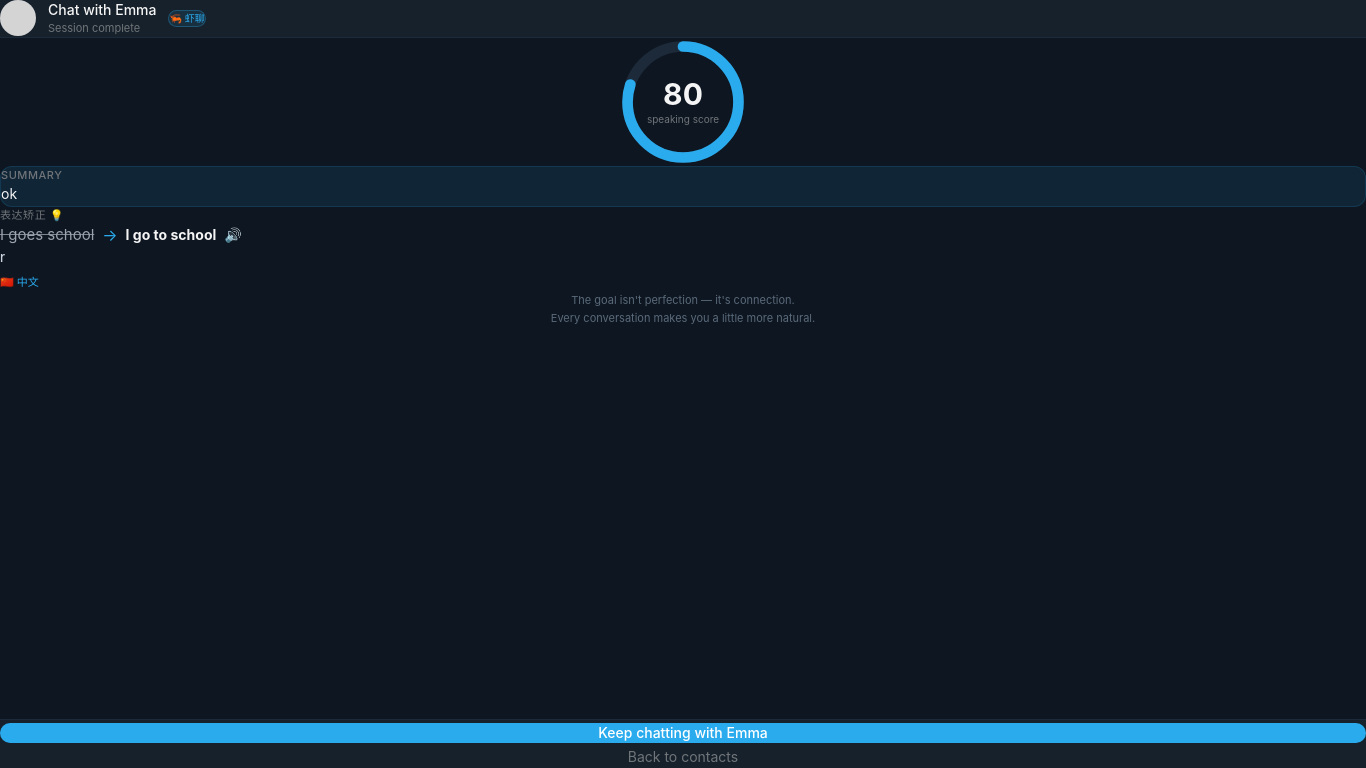
EndReview — 点词释义 (T05) › clicking a word with a definition opens the bubble showing 中文 (B02)
Click the button "school" at (193, 235), box x1=170 y1=225 x2=216 y2=245
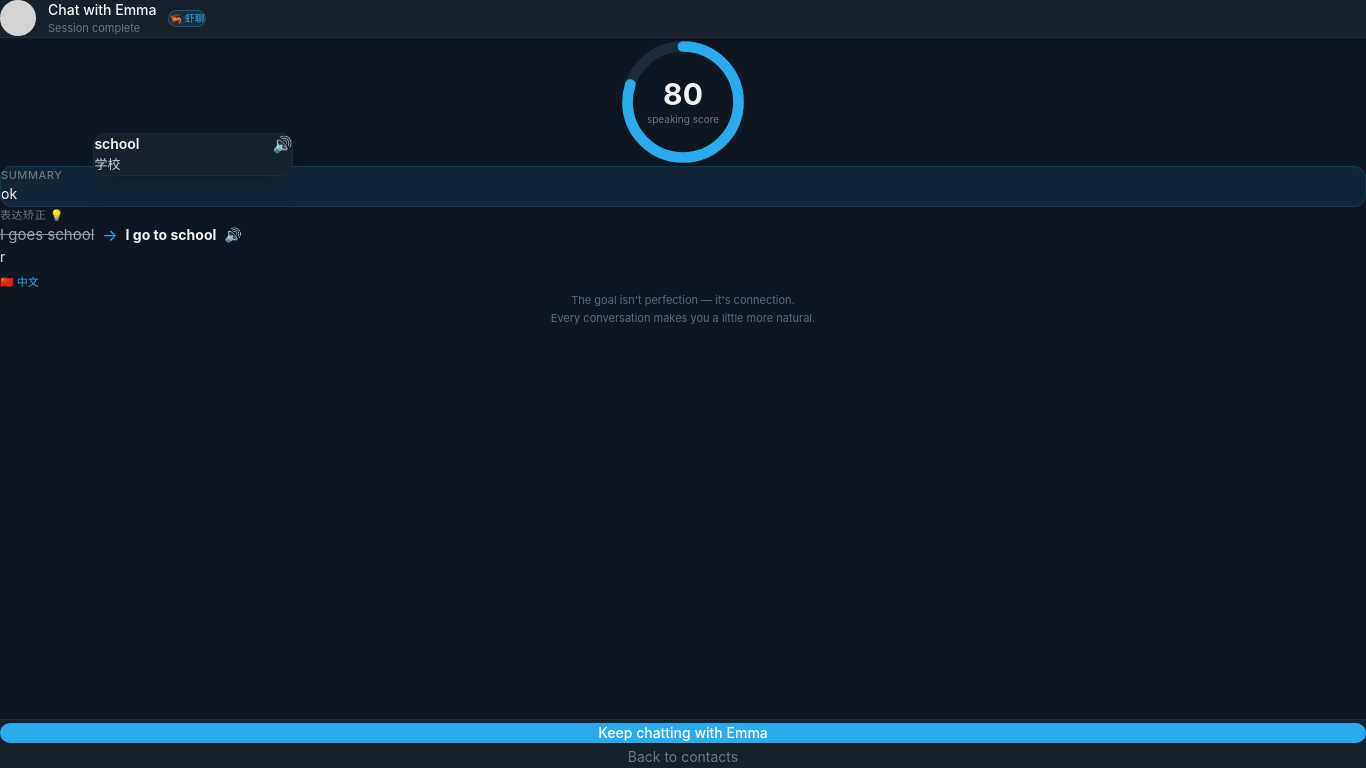
Check: the text "学校" is shown, box x1=94 y1=156 x2=120 y2=172
